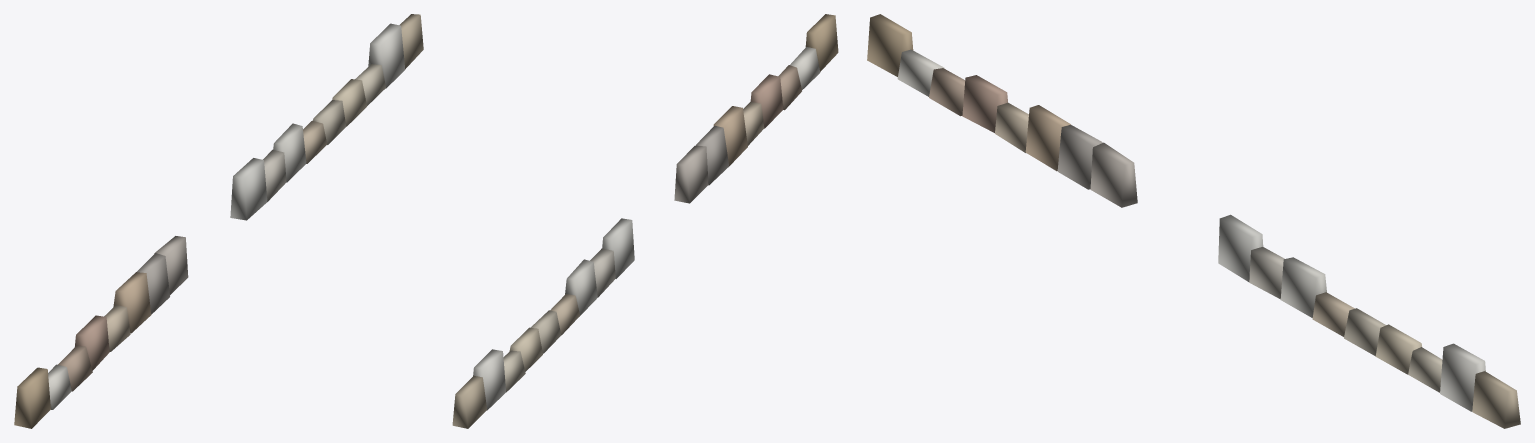
Rendered from farm_0_3_far.glb.
3 renders of one model, left to right at view 1: azimuth 30°, elevation 25°; view 2: azimuth 210°, elevation 25°; view 3: azimuth 270°, elevation 25°, orthographic. The views are drawn at different scales.
Visible parts, largest first — view 1: geometry_0; view 2: geometry_0; view 3: geometry_0.
Part boxes in pixels (x1,y1,x2,y2): geometry_0: (14,14,423,428); geometry_0: (452,14,838,428); geometry_0: (867,14,1520,428).
Size of the model in its own units: 25.62 by 1.74 by 19.46.
